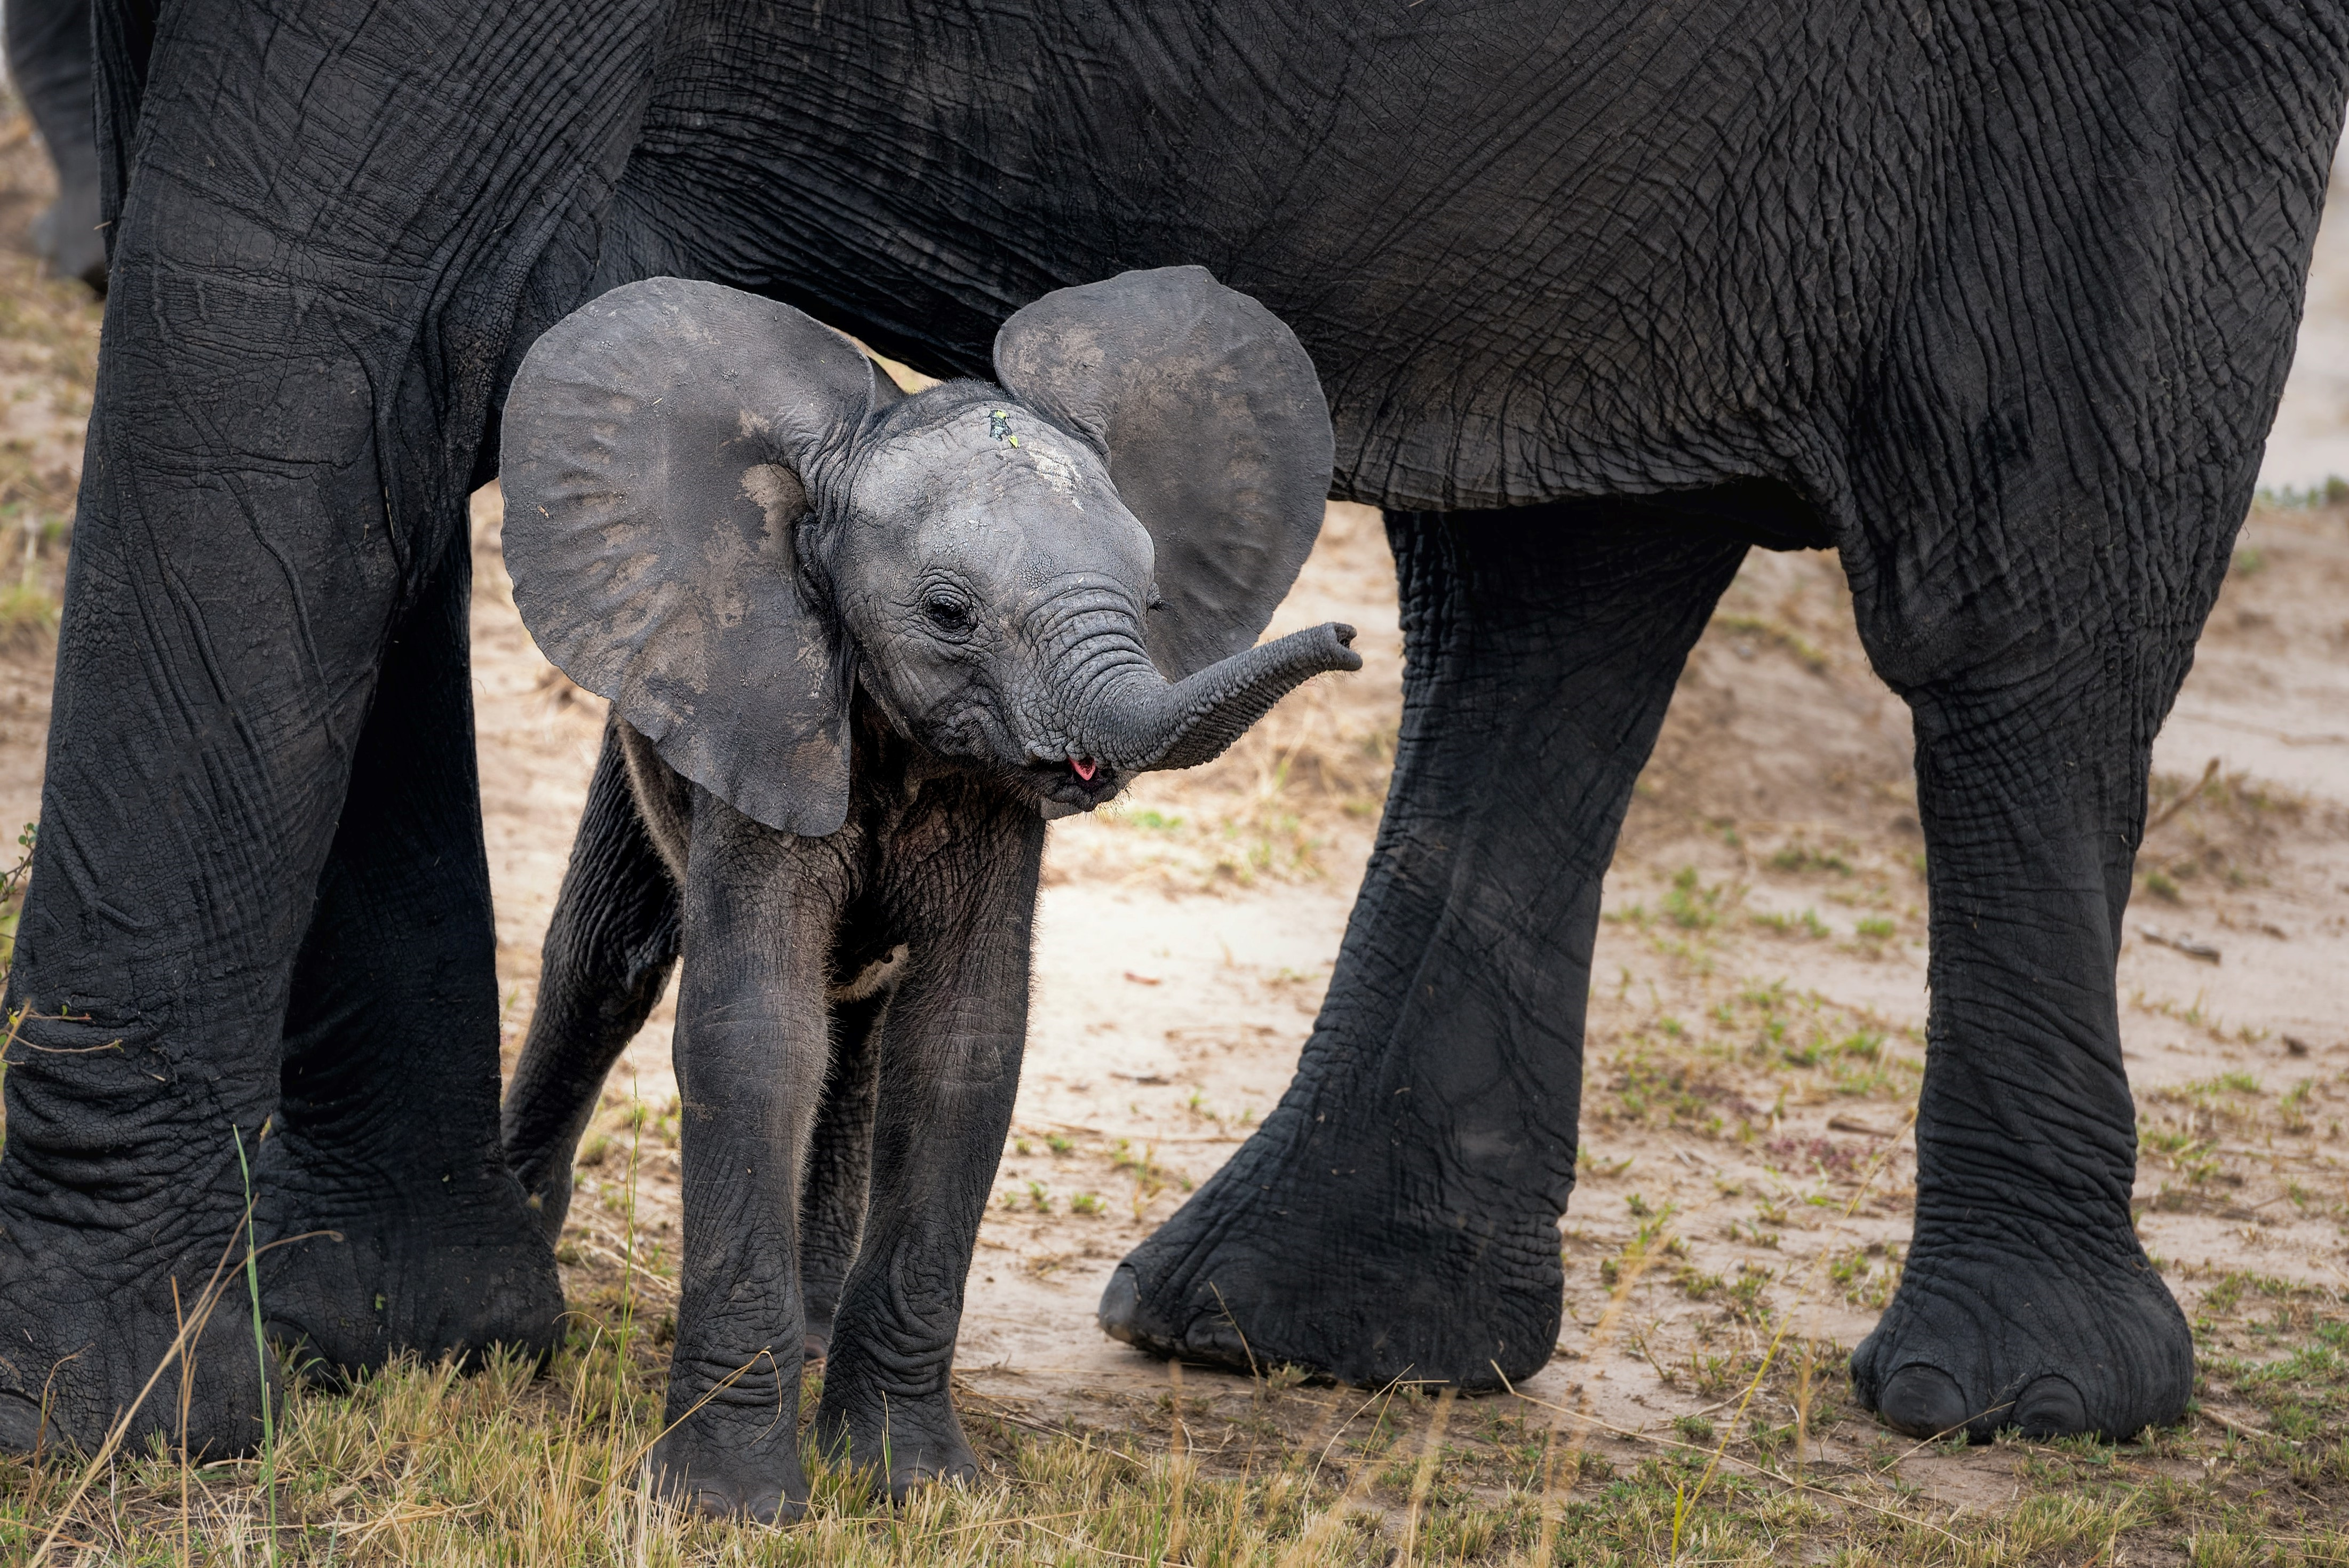Elephant: (5, 0, 2234, 1431), (495, 264, 1179, 1491)
